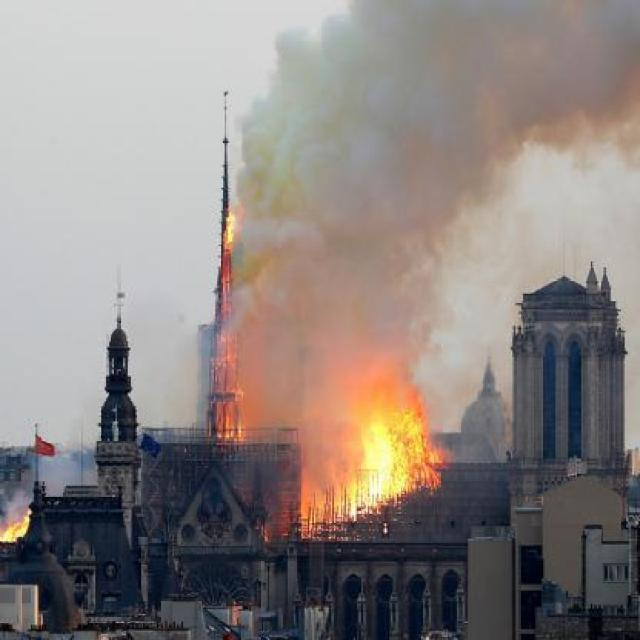Fire: (277, 352, 451, 536), (194, 205, 249, 438), (364, 431, 410, 498), (0, 500, 35, 546)
